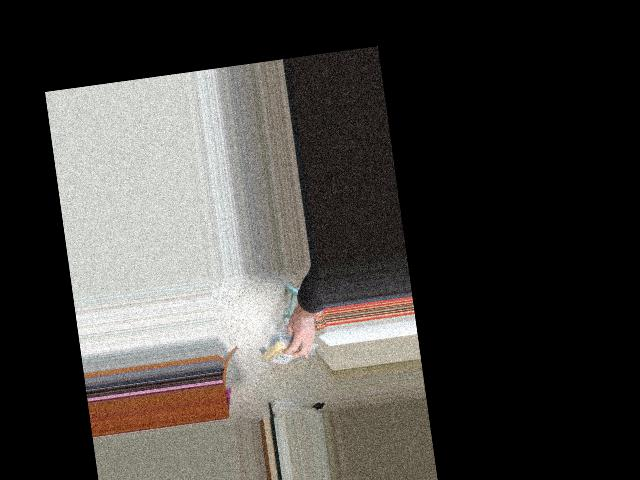cheese: (258, 334, 313, 367)
